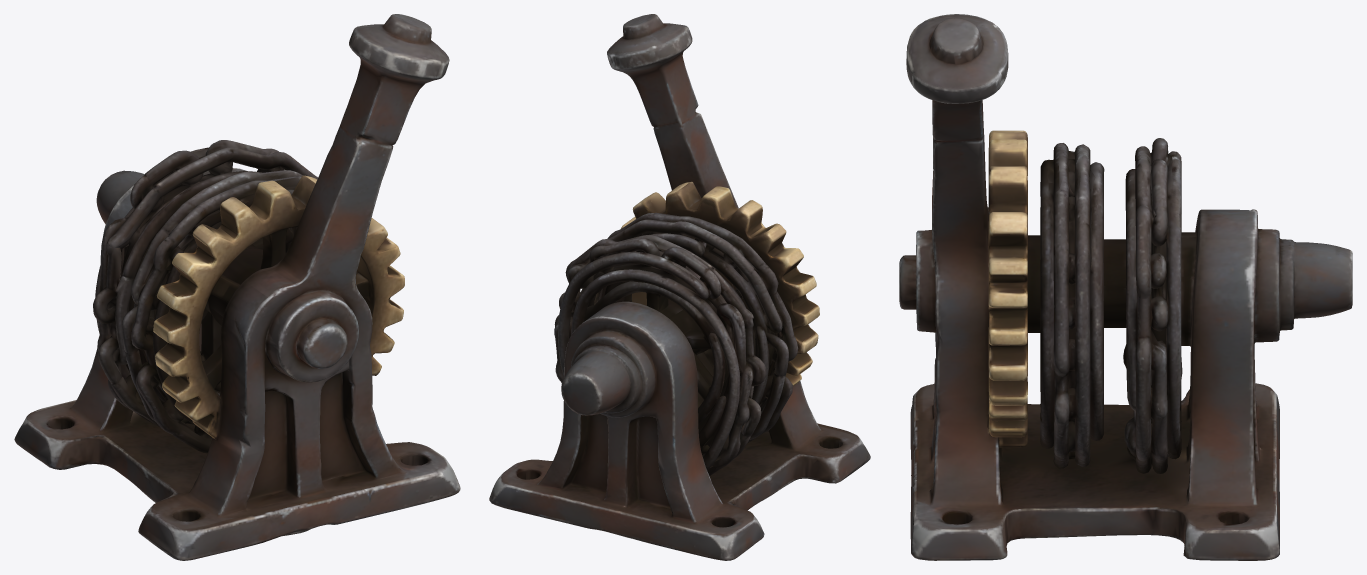
The model's file is leveler_1024.glb.
3 renders of one model, left to right at view 1: azimuth 30°, elevation 25°; view 2: azimuth 150°, elevation 25°; view 3: azimuth 270°, elevation 25°, orthographic. The views are drawn at different scales.
Visible parts, largest first — view 1: node_0; view 2: node_0; view 3: node_0.
Boxes of the visible parts, left/top/right/bottom form: node_0: left=14, top=14, right=460, bottom=560; node_0: left=489, top=14, right=870, bottom=560; node_0: left=899, top=14, right=1352, bottom=560.
Bounding box in the file's own units: 0.5493 × 0.8667 × 0.6884.
1 material, 1 textured.
